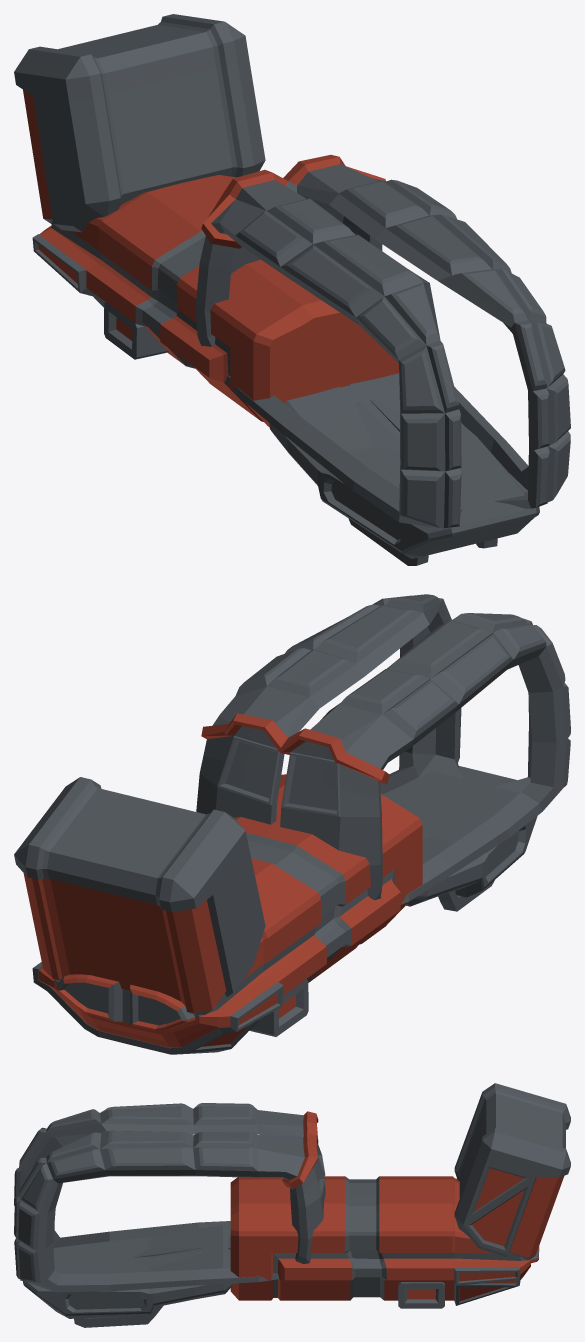
File: Personal_Vehicle_02_Body_Red.fbx
3 views of the same model, one above another, from view 1: azimuth 30°, elevation 25°; view 2: azimuth 150°, elevation 25°; view 3: azimuth 270°, elevation 25° (orthographic). The views are drawn at different scales.
Visible parts, largest first — view 1: Personal_Vehicle_02_Body_Red; view 2: Personal_Vehicle_02_Body_Red; view 3: Personal_Vehicle_02_Body_Red.
Boxes of the visible parts, box(x1,y1,x2,y2) form: Personal_Vehicle_02_Body_Red: box(14, 14, 570, 565); Personal_Vehicle_02_Body_Red: box(14, 594, 570, 1054); Personal_Vehicle_02_Body_Red: box(14, 1083, 570, 1327).
Size of the model in its own units: 104 by 144 by 353.
2 materials, 2 textured.
